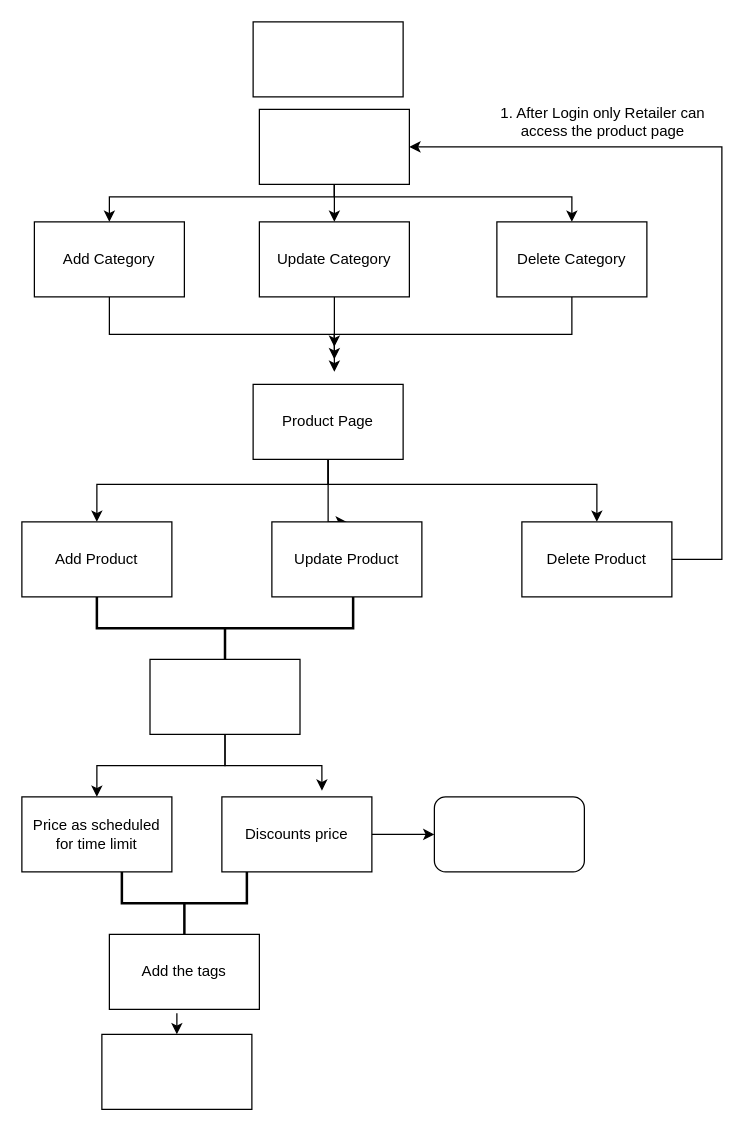
Image size: 754x1131. Some labels were removed from this diagram. The centre of each missing label's shape, as x and y in pixels:
"Add the quantities" goes at pixel 224 696.
"Category Page" goes at pixel 333 146.
"Notifications" goes at pixel 508 834.
"Procced to add the list" goes at pixel 176 1071.
"Product Module" goes at pixel 327 59.
